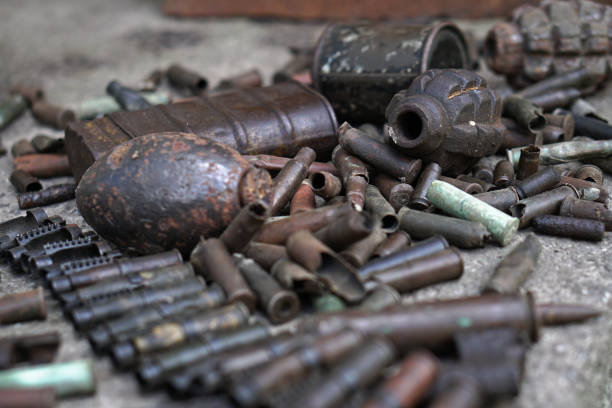e1: (385, 65, 509, 160)
